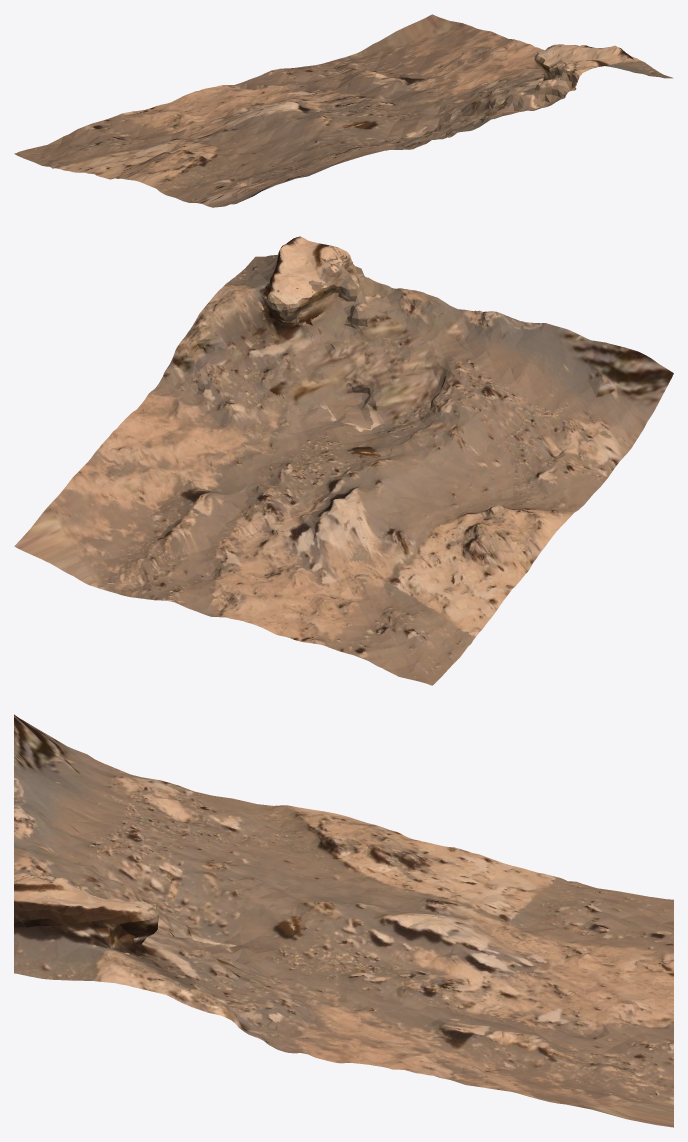
3 renders of one model, top to bottom at view 1: azimuth 30°, elevation 25°; view 2: azimuth 150°, elevation 25°; view 3: azimuth 270°, elevation 25°, orthographic. The views are drawn at different scales.
Size of the model in its own units: 1.04 by 0.4325 by 1.04.
3 materials, 3 textured.
